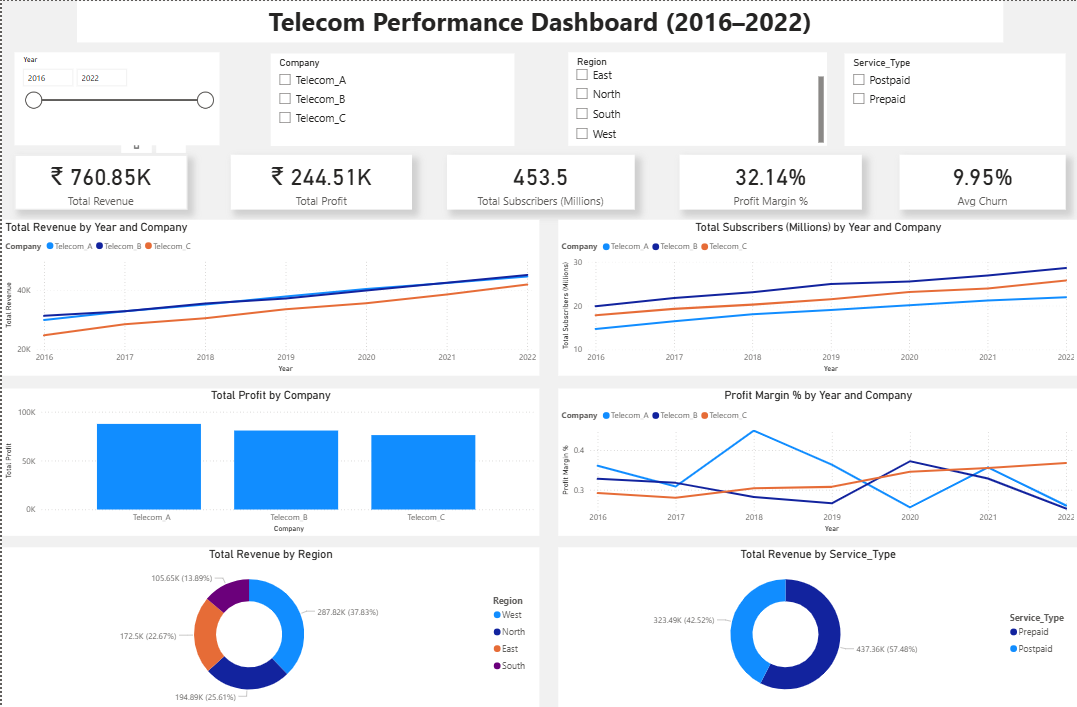

This screenshot's page, from the dashboard's own definition file:
{"tool":"powerbi","page":{"name":"Page 1","canvas":[1600,1050],"ordinal":0},"visuals":[{"type":"card","fields":{"Values":["telecom_data.Total Revenue"]},"box":[18.6,228.7,256.6,81.8],"z":0},{"type":"card","fields":{"Values":["telecom_data.Total Profit"]},"box":[340.2,228.7,269.6,81.8],"z":1000},{"type":"card","fields":{"Values":["telecom_data.Total Subscribers"]},"box":[661.8,228.7,278.9,81.8],"z":2000},{"type":"card","fields":{"Values":["telecom_data.Profit Margin %"]},"box":[1007.6,228.7,271.4,81.8],"z":3000},{"type":"card","fields":{"Values":["telecom_data.Avg Churn"]},"box":[1334.8,228.7,247.3,81.8],"z":4000},{"type":"lineChart","fields":{"Category":["telecom_data.Year"],"Series":["telecom_data.Company"],"Y":["telecom_data.Total Revenue"]},"box":[0,325.3,799.4,232.4],"z":5000},{"type":"lineChart","fields":{"Category":["telecom_data.Year"],"Y":["telecom_data.Total Subscribers (Millions)"],"Series":["telecom_data.Company"]},"box":[827.3,325.3,773.4,232.4],"z":6000},{"type":"clusteredColumnChart","fields":{"Category":["telecom_data.Company"],"Y":["telecom_data.Total Profit"]},"box":[0,576.3,799.4,219.4],"z":6001},{"type":"lineChart","fields":{"Category":["telecom_data.Year"],"Y":["telecom_data.Profit Margin %"],"Series":["telecom_data.Company"]},"box":[827.3,576.3,773.4,219.4],"z":6002},{"type":"donutChart","fields":{"Category":["telecom_data.Region"],"Y":["telecom_data.Total Revenue"]},"box":[0,812,799.4,238],"z":6003},{"type":"donutChart","fields":{"Category":["telecom_data.Service_Type"],"Y":["telecom_data.Total Revenue"]},"box":[827.3,812,773.4,238],"z":6004},{"type":"slicer","fields":{"Values":["telecom_data.Year"]},"box":[18.6,76.2,304.9,137.6],"z":6005},{"type":"slicer","fields":{"Values":["telecom_data.Company"]},"box":[399.7,78.1,362.5,137.6],"z":6006},{"type":"slicer","fields":{"Values":["telecom_data.Region"]},"box":[842.2,76.2,384.8,139.4],"z":6007},{"type":"slicer","fields":{"Values":["telecom_data.Service_Type"]},"box":[1253,78.1,329.1,137.6],"z":6008},{"type":"textbox","box":[111.5,0,1377.6,61.3],"z":6009}]}

Visuals, with their boxes in screenshot pixels (x1, y1, x2, y2), scaled from the page's 1600x1050 canvas onto the 1077x707 screenshot:
card - telecom_data.Total Revenue: bbox(13, 154, 185, 209)
card - telecom_data.Total Profit: bbox(229, 154, 410, 209)
card - telecom_data.Total Subscribers: bbox(445, 154, 633, 209)
card - telecom_data.Profit Margin %: bbox(678, 154, 861, 209)
card - telecom_data.Avg Churn: bbox(898, 154, 1065, 209)
lineChart - telecom_data.Year x telecom_data.Company: bbox(0, 219, 538, 376)
lineChart - telecom_data.Year x telecom_data.Total Subscribers (Millions): bbox(557, 219, 1076, 376)
clusteredColumnChart - telecom_data.Company x telecom_data.Total Profit: bbox(0, 388, 538, 536)
lineChart - telecom_data.Year x telecom_data.Profit Margin %: bbox(557, 388, 1076, 536)
donutChart - telecom_data.Region x telecom_data.Total Revenue: bbox(0, 547, 538, 706)
donutChart - telecom_data.Service_Type x telecom_data.Total Revenue: bbox(557, 547, 1076, 706)
slicer - telecom_data.Year: bbox(13, 51, 218, 144)
slicer - telecom_data.Company: bbox(269, 53, 513, 145)
slicer - telecom_data.Region: bbox(567, 51, 826, 145)
slicer - telecom_data.Service_Type: bbox(843, 53, 1065, 145)
textbox: bbox(75, 0, 1002, 41)
